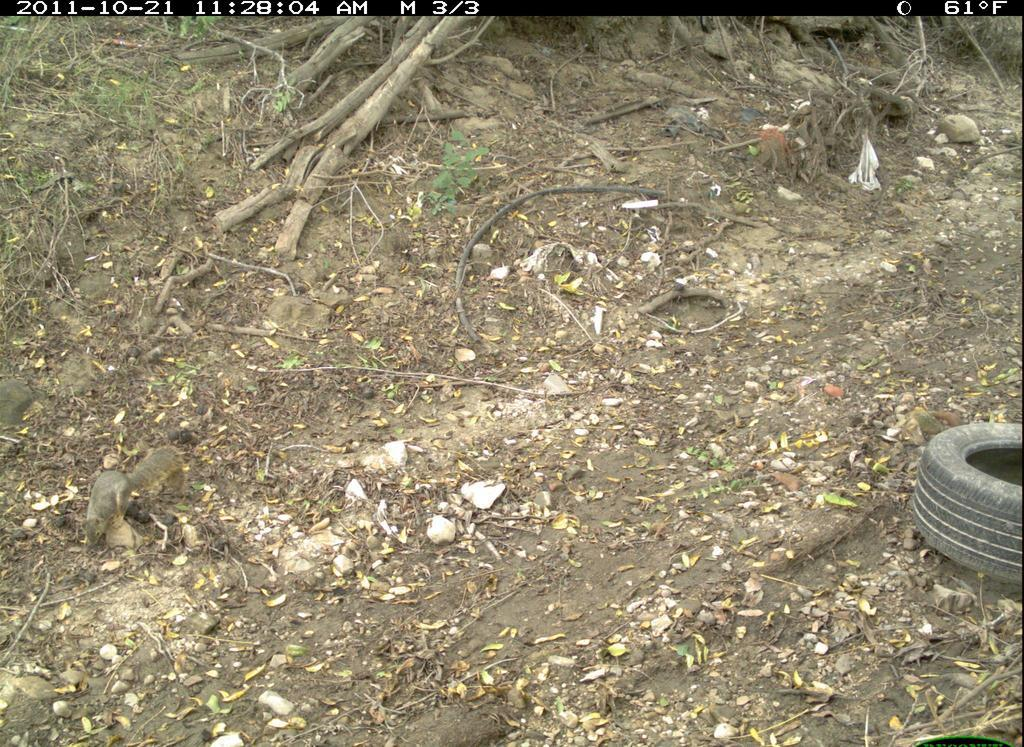squirrel: (79, 446, 191, 552)
